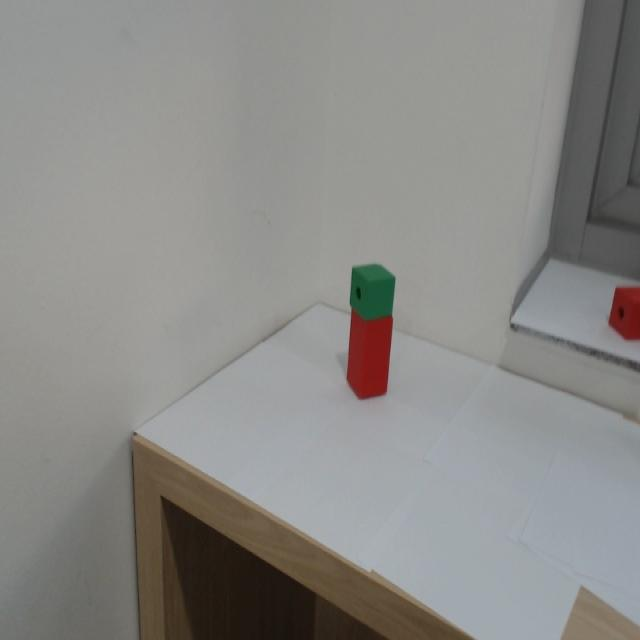cube: (349, 257, 397, 324)
